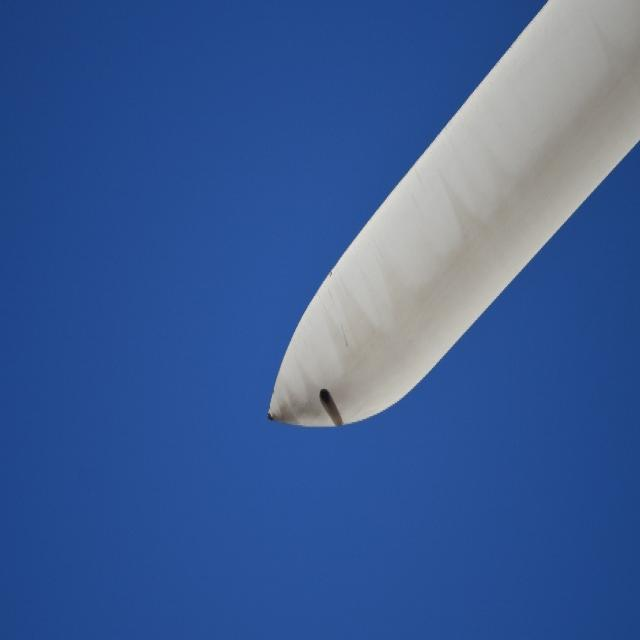Burn Mark: (317, 385, 344, 428)
